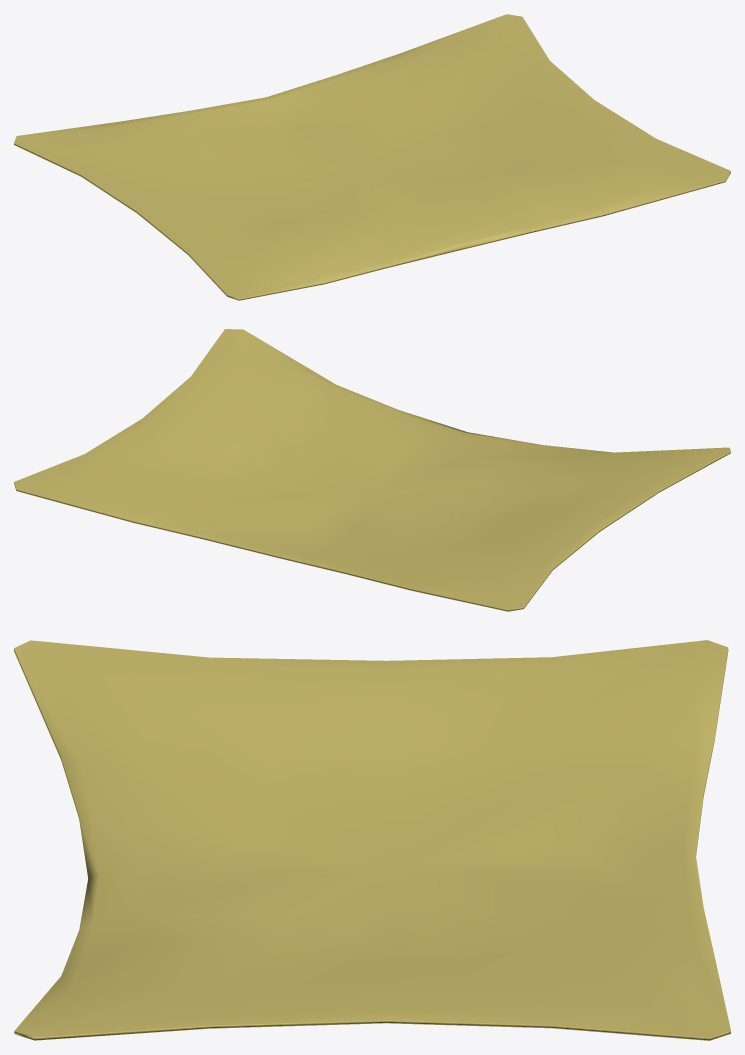
File: Enviro_MarketTop_Yellow_Creole_Untextured.fbx
3 renders of one model, top to bottom at view 1: azimuth 30°, elevation 25°; view 2: azimuth 150°, elevation 25°; view 3: azimuth 270°, elevation 25°, orthographic. The views are drawn at different scales.
Visible parts, largest first — view 1: Cloth_Yellow; view 2: Cloth_Yellow; view 3: Cloth_Yellow.
Boxes of the visible parts, x1=… form: Cloth_Yellow: x1=14, y1=14, x2=730, y2=300; Cloth_Yellow: x1=14, y1=329, x2=730, y2=611; Cloth_Yellow: x1=14, y1=640, x2=730, y2=1040.
Bounding box in the file's own units: 5.05 × 0.2883 × 3.83.
